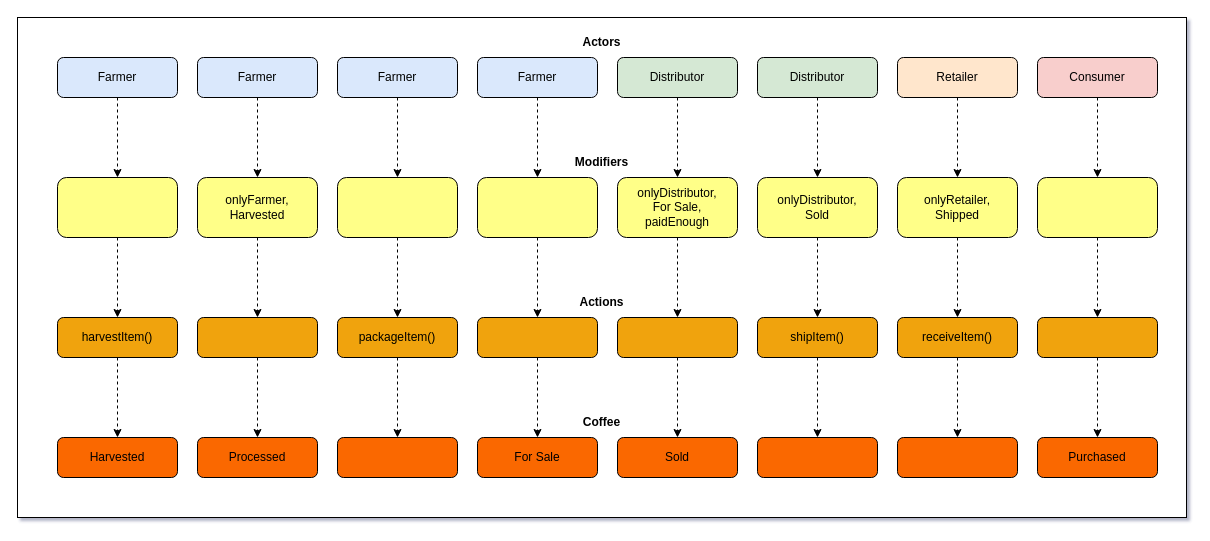
Image size: 1210x541. Some labels were removed from this diagram. Here are the shapes that lost their labels. From the top down, the centre of each, then its label:
At point 117,207: "onlyFarmer".
At point 397,207: "onlyFarmer, Processed".
At point 537,207: "onlyFarmer, Packaged".
At point 1097,207: "onlyCustomer, Received".
At point 257,337: "processItem()".
At point 537,337: "sellItem()".
At point 677,337: "buyItem()".
At point 1097,337: "purchaseItem()".
At point 397,457: "Packaged".
At point 817,457: "Shipped".
At point 957,457: "Received".
